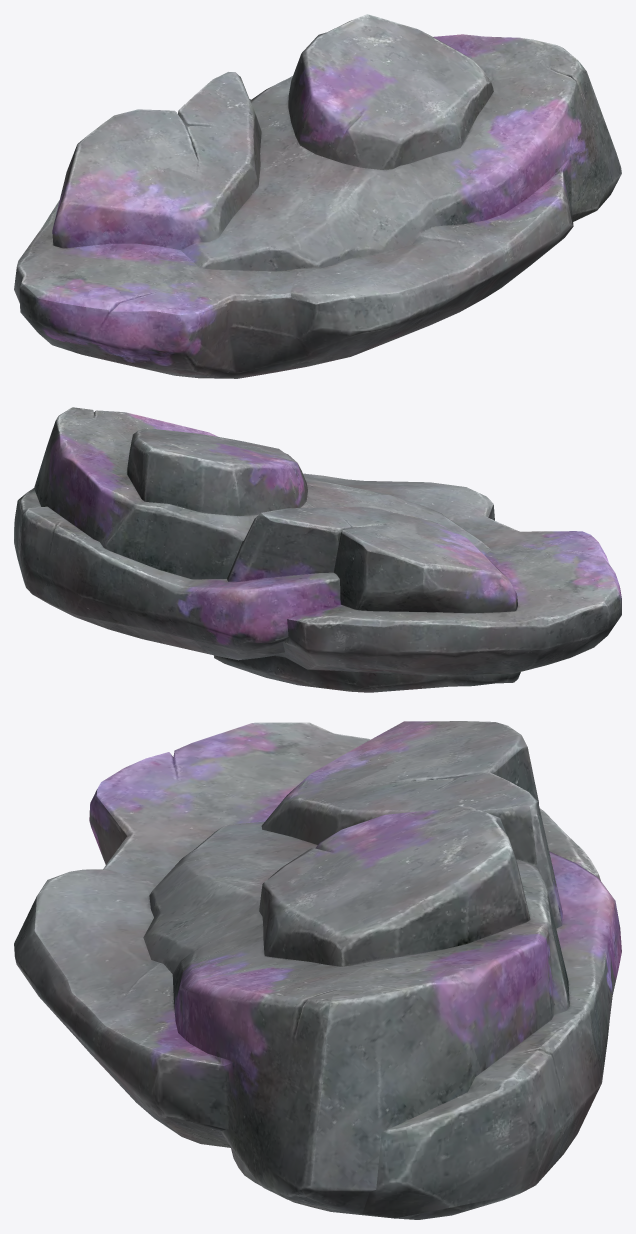
3 renders of one model, top to bottom at view 1: azimuth 30°, elevation 25°; view 2: azimuth 150°, elevation 25°; view 3: azimuth 270°, elevation 25°, orthographic. The views are drawn at different scales.
Visible parts, largest first — view 1: SM_Mining_Node_Large_Mithril_01_LOD0; view 2: SM_Mining_Node_Large_Mithril_01_LOD0; view 3: SM_Mining_Node_Large_Mithril_01_LOD0.
Boxes of the visible parts, left/top/right/bottom form: SM_Mining_Node_Large_Mithril_01_LOD0: left=14, top=14, right=621, bottom=378; SM_Mining_Node_Large_Mithril_01_LOD0: left=14, top=407, right=621, bottom=692; SM_Mining_Node_Large_Mithril_01_LOD0: left=14, top=721, right=621, bottom=1219.
Size of the model in its own units: 5.5 by 2.12 by 3.35.
Materials: 1 (1 with a texture image).
